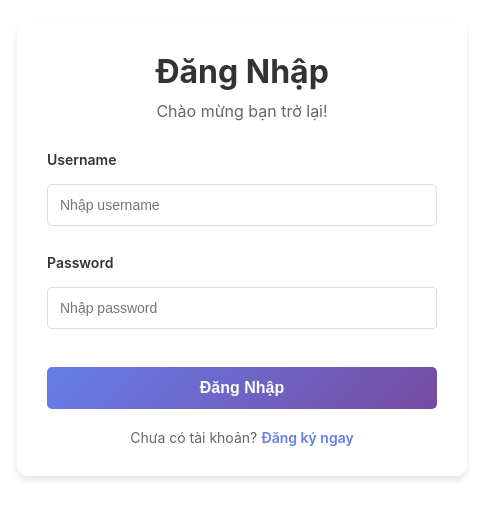
Test case: Login E2E Tests › d) Nên xóa error message khi user nhập lại
// Submit form rỗng để hiển thị error
Click the button with test id "login-button" at (242, 388), box [47, 367, 437, 409]
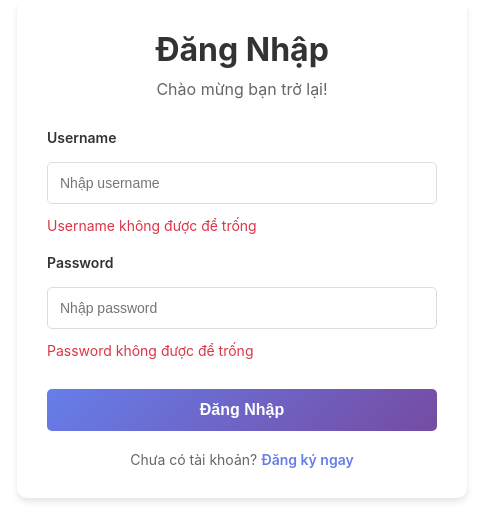
Check: the text "Username không được để trống" is shown, box [47, 217, 257, 234]
// Nhập dữ liệu vào username
Type "testuser" into the field with test id "username-input" at (242, 183), box [47, 162, 437, 204]
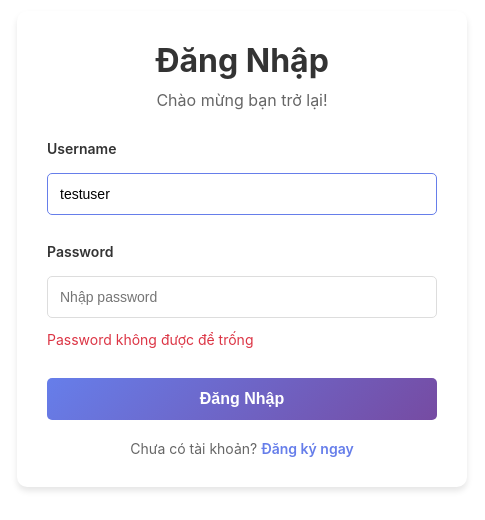
Check: the text "Username không được để trống" is gone
